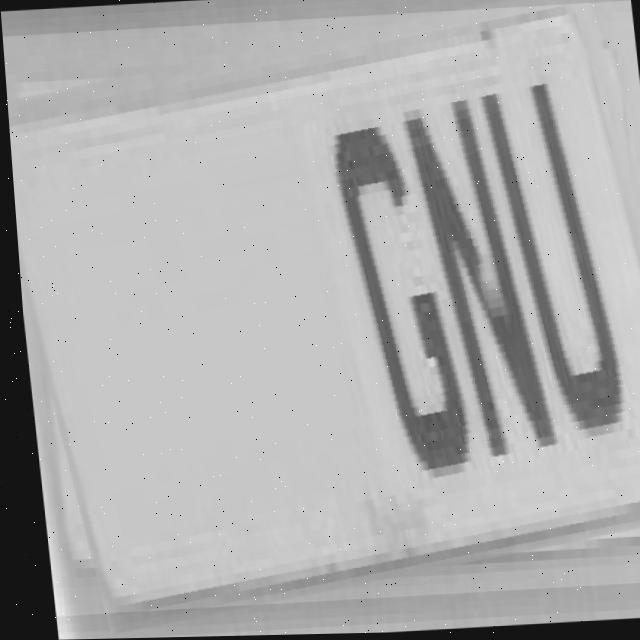LicensePlate: (1, 3, 640, 616)
